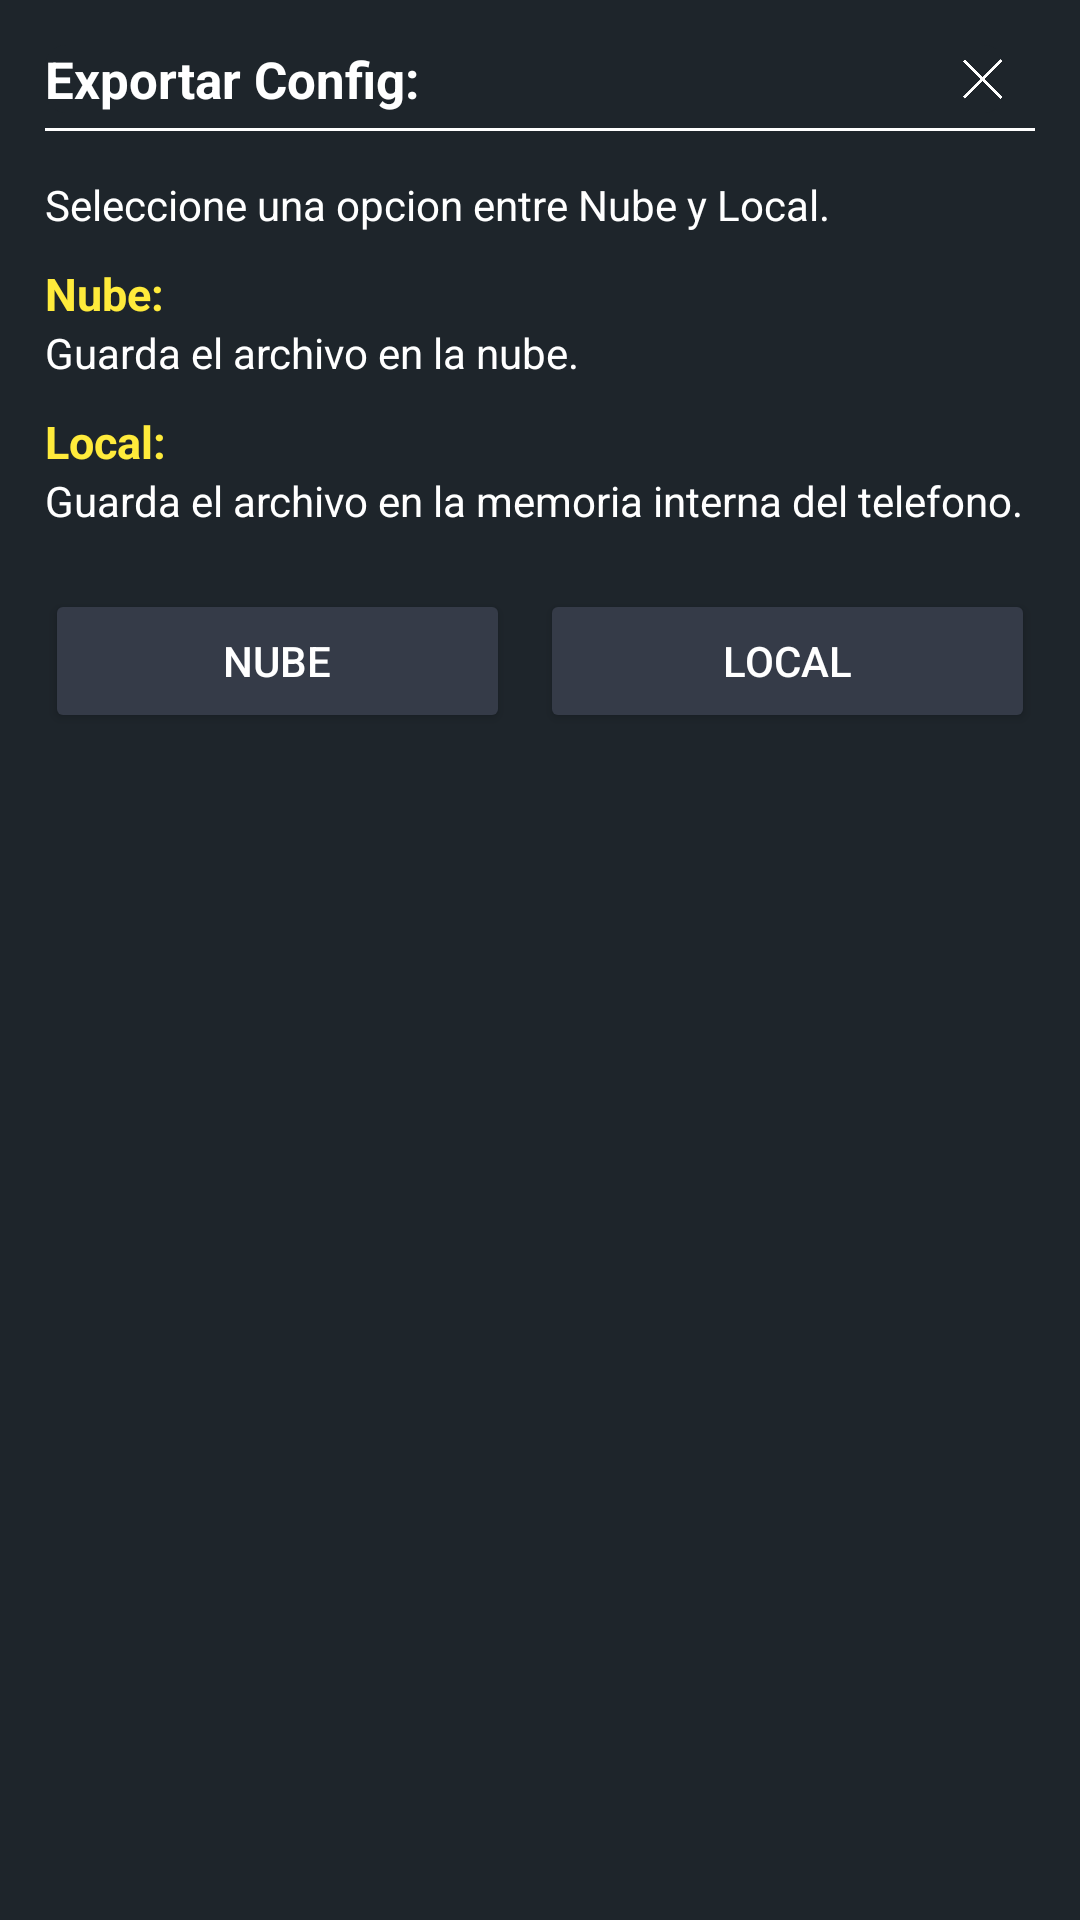

Icon bounding boxes for this 1080 × 1920 phone screenshot, format (x1, y1, x2, y2):
salir: (963, 59, 1002, 99)
